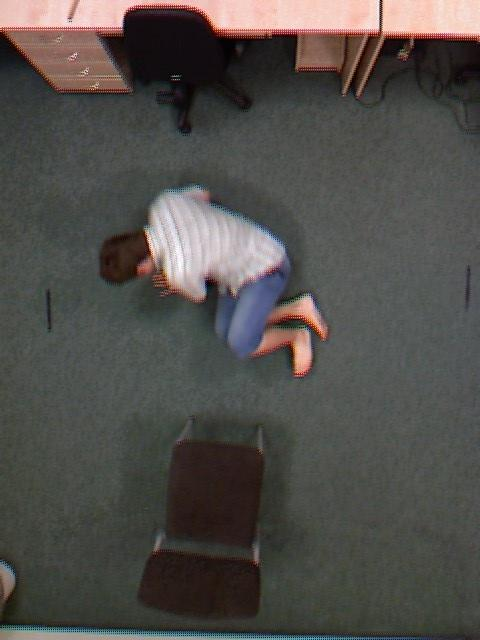fall: (135, 118, 287, 439)
